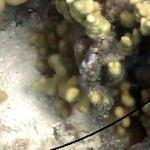alive: (10, 3, 147, 148)
